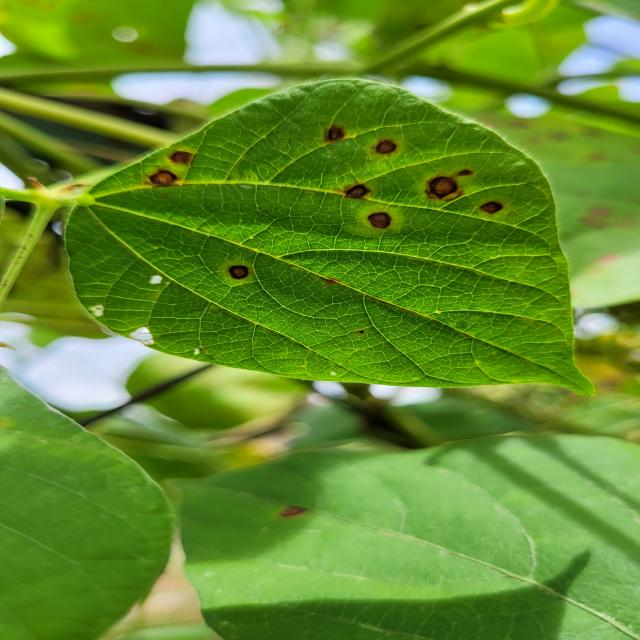Dolicos bean_cercospora leaf spot: (69, 76, 606, 398)
Dolicos bean_healthy: (201, 424, 640, 640)
